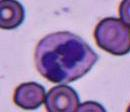N: (34, 32, 96, 82)
